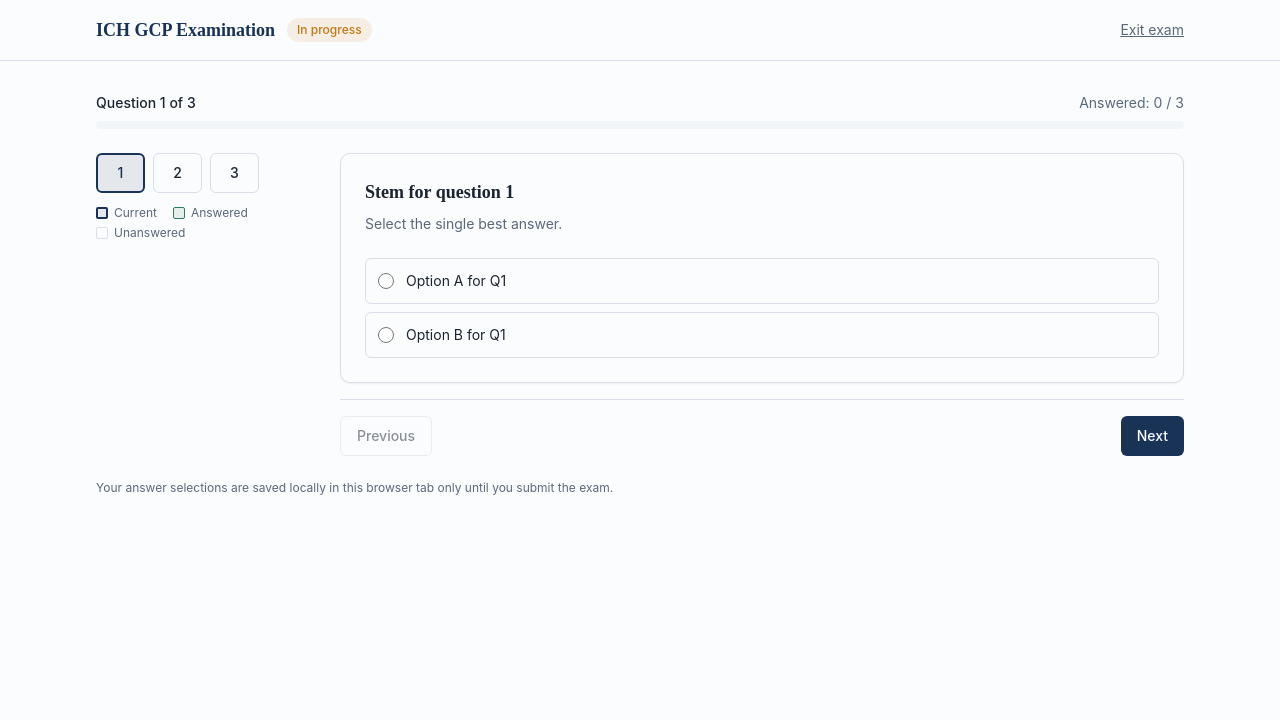
Exam attempt page › Gate 7D: submission › opens a confirmation dialog with answered/unanswered counts before submitting anything
Expected: the heading "Stem for question 1" is shown, left=365, top=182, right=514, bottom=202
Click the button "Next": point(1152, 436) left=1121, top=416, right=1184, bottom=456
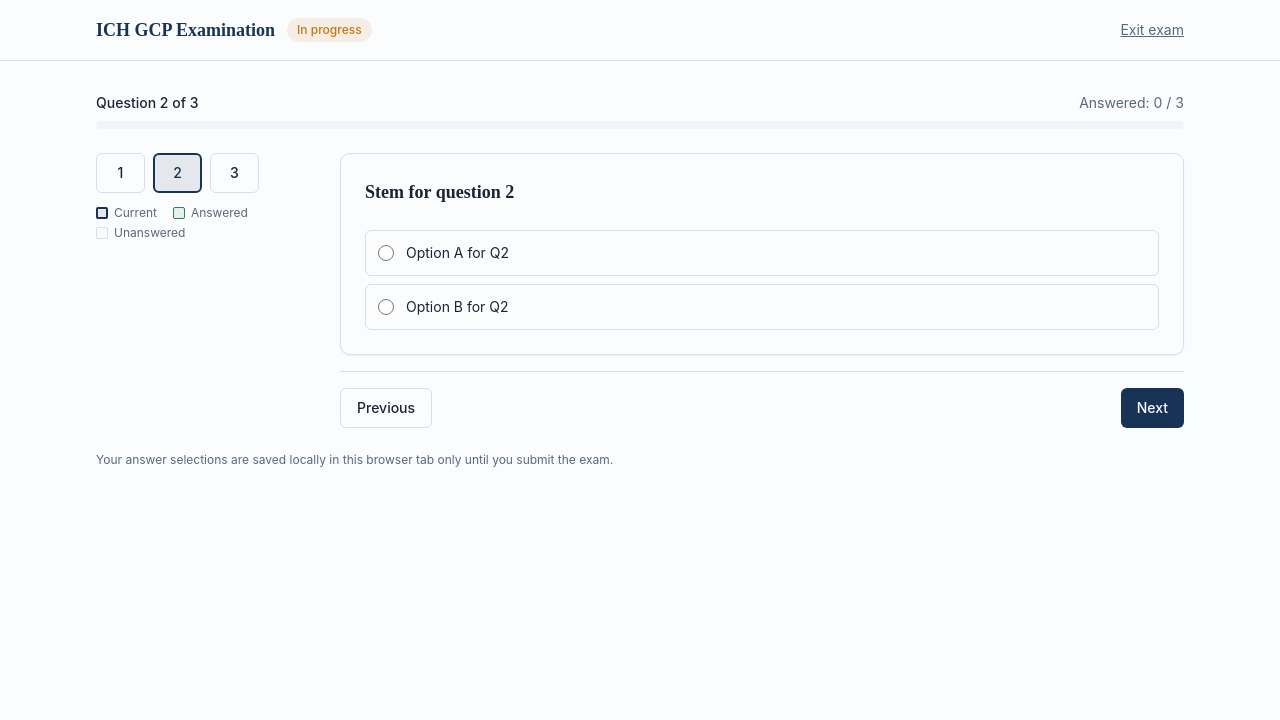
Now the heading "Stem for question 2" is shown, box left=365, top=182, right=514, bottom=202
Click the button "Next": point(1152, 408) left=1121, top=388, right=1184, bottom=428
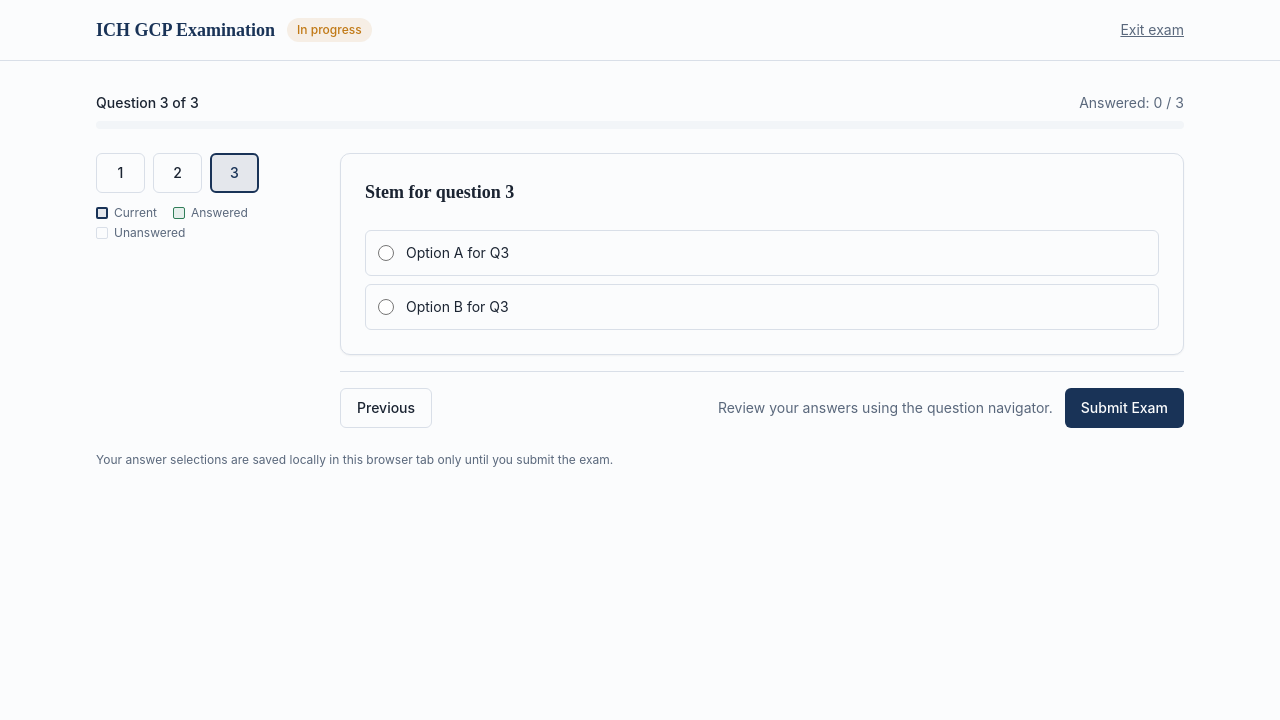
Click the radio button labelled "Option A for Q3": point(386, 253) left=378, top=245, right=394, bottom=261
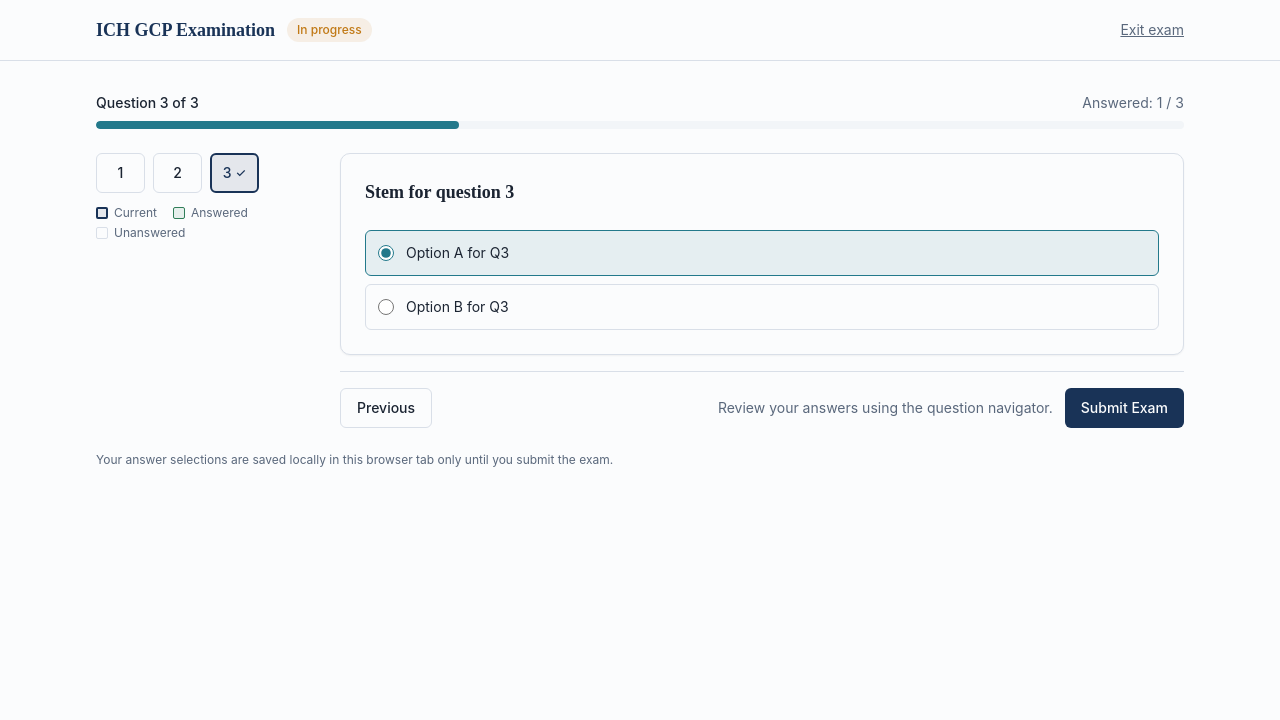
Click the button "Submit Exam": point(1124, 408) left=1065, top=388, right=1184, bottom=428
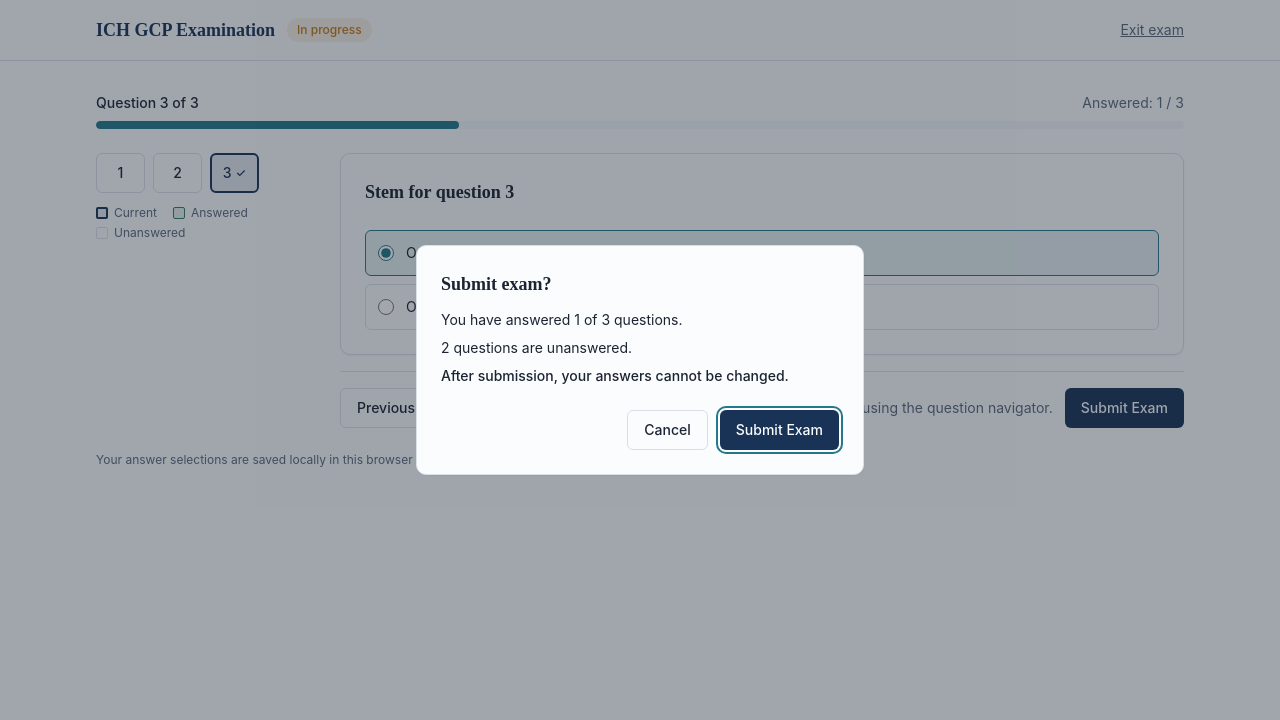
Now the dialog shows "answered 1 of 3 questions", box left=416, top=245, right=864, bottom=475
Now the dialog shows "2 questions are unanswered", box left=416, top=245, right=864, bottom=475
Now the dialog shows "cannot be changed", box left=441, top=367, right=789, bottom=384
